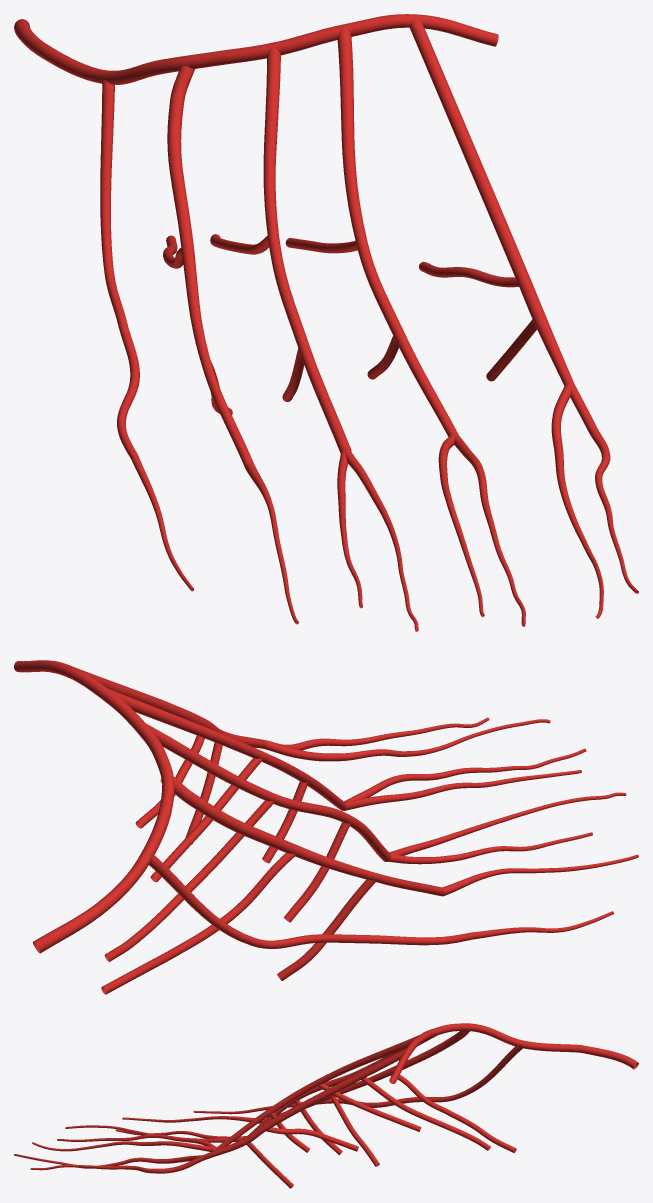
Rendered from circulatorio-dorsal-venous-arch-of-foot-r.glb.
The picture shows the model from 3 angles, top to bottom: view 1: azimuth 30°, elevation 25°; view 2: azimuth 150°, elevation 25°; view 3: azimuth 270°, elevation 25°; orthographic projection. The views are drawn at different scales.
Visible parts, largest first — view 1: Dorsal metatarsal veins.r, Dorsal digital veins of foot.r, Dorsal venous arch of foot.r, Intercapitular veins of foot.r; view 2: Dorsal metatarsal veins.r, Dorsal digital veins of foot.r, Intercapitular veins of foot.r, Dorsal venous arch of foot.r; view 3: Dorsal metatarsal veins.r, Intercapitular veins of foot.r, Dorsal digital veins of foot.r, Dorsal venous arch of foot.r.
Boxes of the visible parts, x1,y1,x2,y2 form: Dorsal metatarsal veins.r: [100, 17, 573, 468]; Dorsal digital veins of foot.r: [130, 383, 638, 631]; Dorsal venous arch of foot.r: [14, 14, 498, 84]; Intercapitular veins of foot.r: [163, 234, 536, 414]; Dorsal metatarsal veins.r: [77, 668, 474, 948]; Dorsal digital veins of foot.r: [263, 717, 638, 939]; Intercapitular veins of foot.r: [101, 735, 376, 994]; Dorsal venous arch of foot.r: [14, 660, 174, 953]; Dorsal metatarsal veins.r: [202, 1030, 522, 1160]; Intercapitular veins of foot.r: [246, 1074, 516, 1188]; Dorsal digital veins of foot.r: [14, 1102, 302, 1173]; Dorsal venous arch of foot.r: [389, 1023, 638, 1083].
Bounding box in the file's own units: 0.0792 × 0.0505 × 0.1618.
